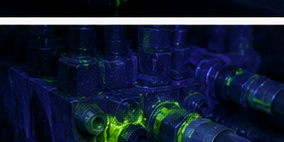hydraulic_oil_leak: (104, 110, 145, 141), (177, 113, 199, 141), (155, 107, 183, 122), (157, 101, 179, 107), (93, 124, 102, 133), (253, 98, 263, 103), (122, 132, 127, 138), (91, 117, 95, 124), (227, 78, 231, 84)
